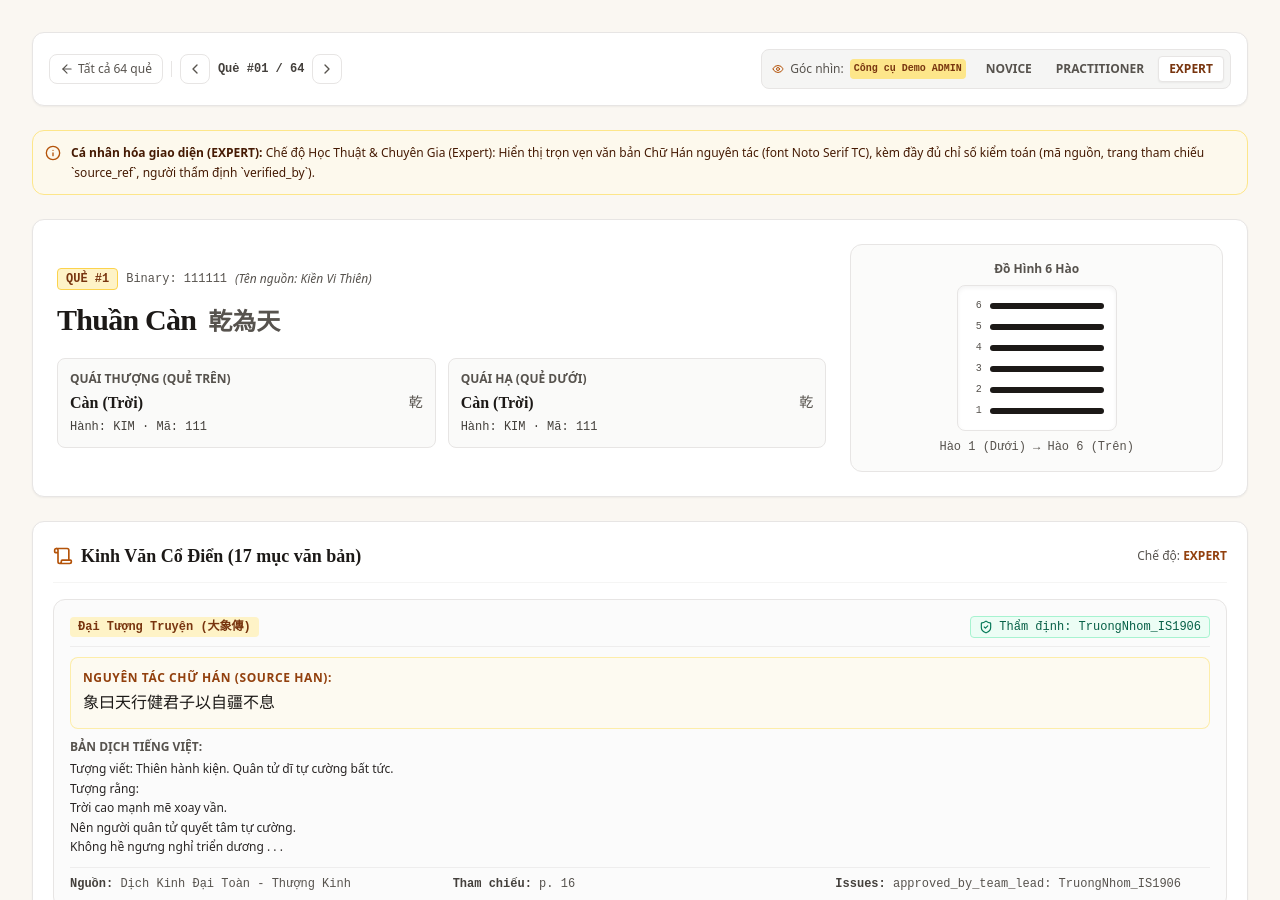
Test: HexagramDetailPage: Cá nhân hóa tri thức 3 cấp độ (Wiig 1993) & Tuân thủ RBAC › Cấp độ PRACTITIONER: Hiển thị cấu trúc quẻ và bản dịch đầy đủ, ẩn trường kiểm toán
The image size is (1280, 900).
Expected: the heading "Thuần Càn" is shown, [57,302,196,338]
Chọn tab PRACTITIONER
Step 1. Click the button "PRACTITIONER" → (1100,69), box [1046,57,1154,81]
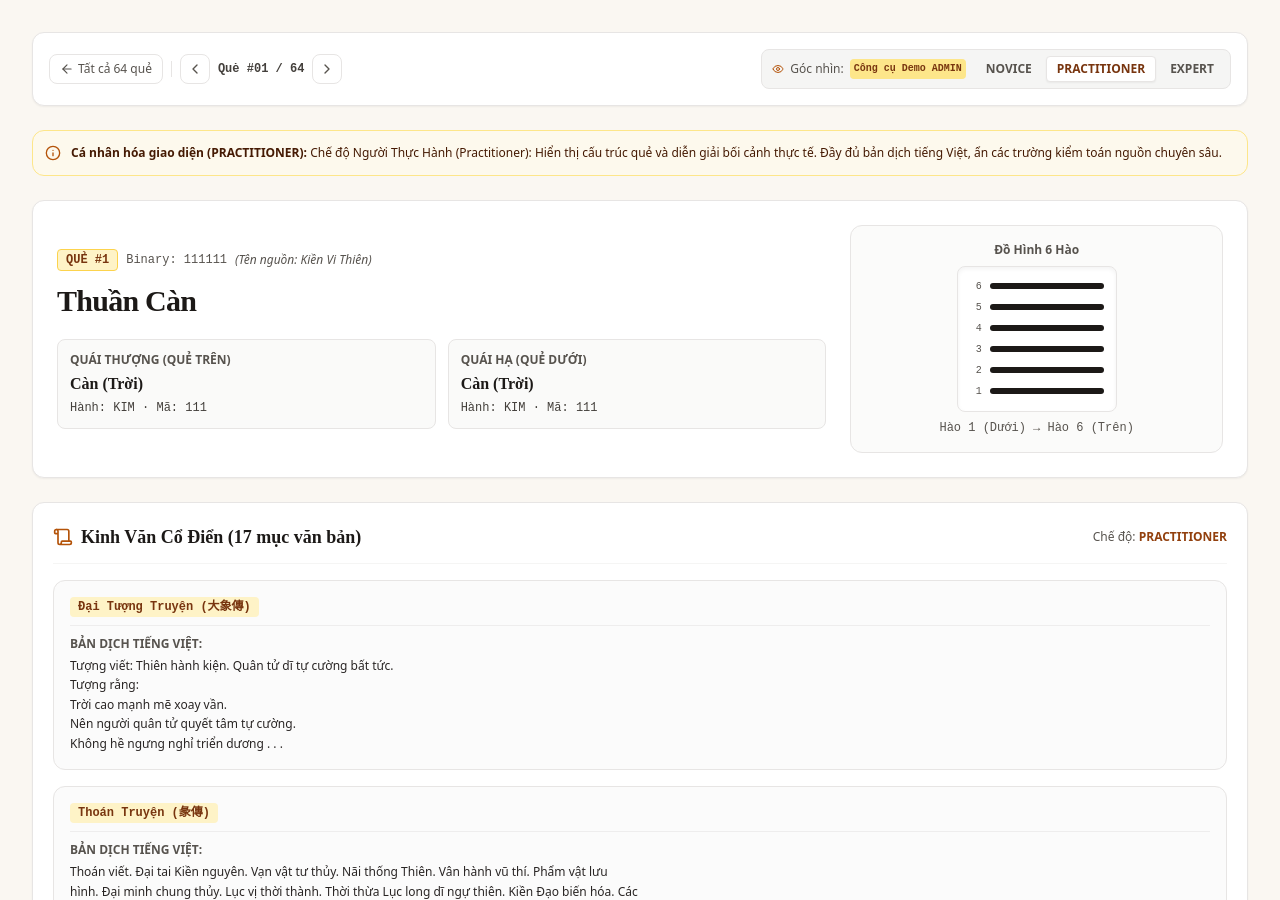
Expected: the text "Quái Thượng (Quẻ Trên)" is shown, [70,350,231,368]
Now the text "Thẩm định: TruongNhom_IS1906" is gone
